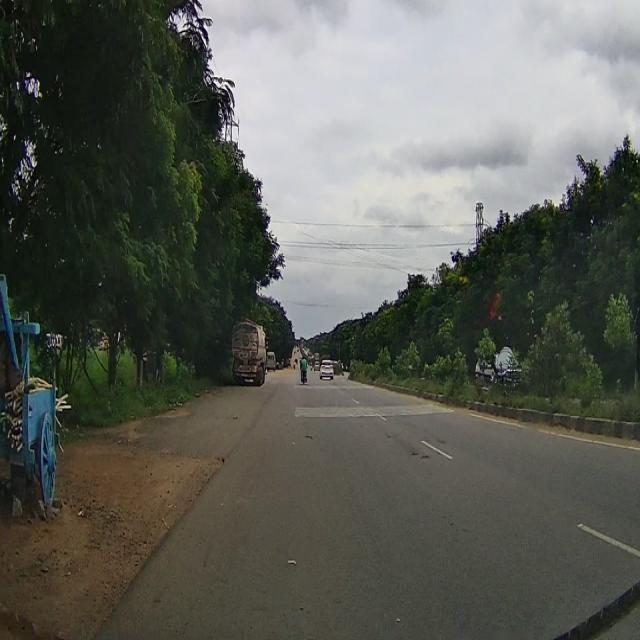truck ahead at: (0, 274, 69, 524), (225, 314, 275, 394)
